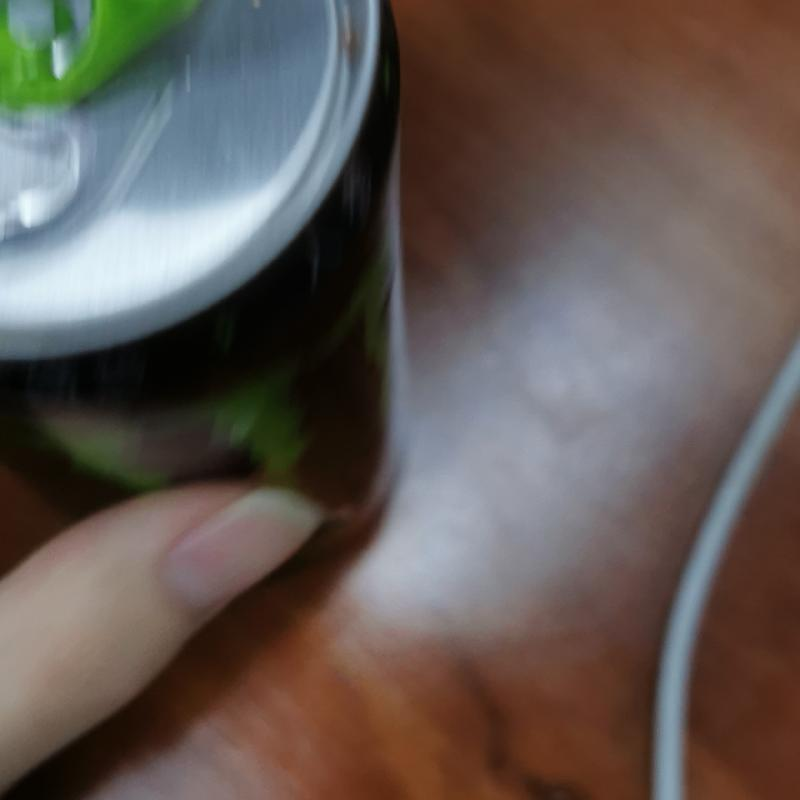cans: (8, 5, 403, 427)
